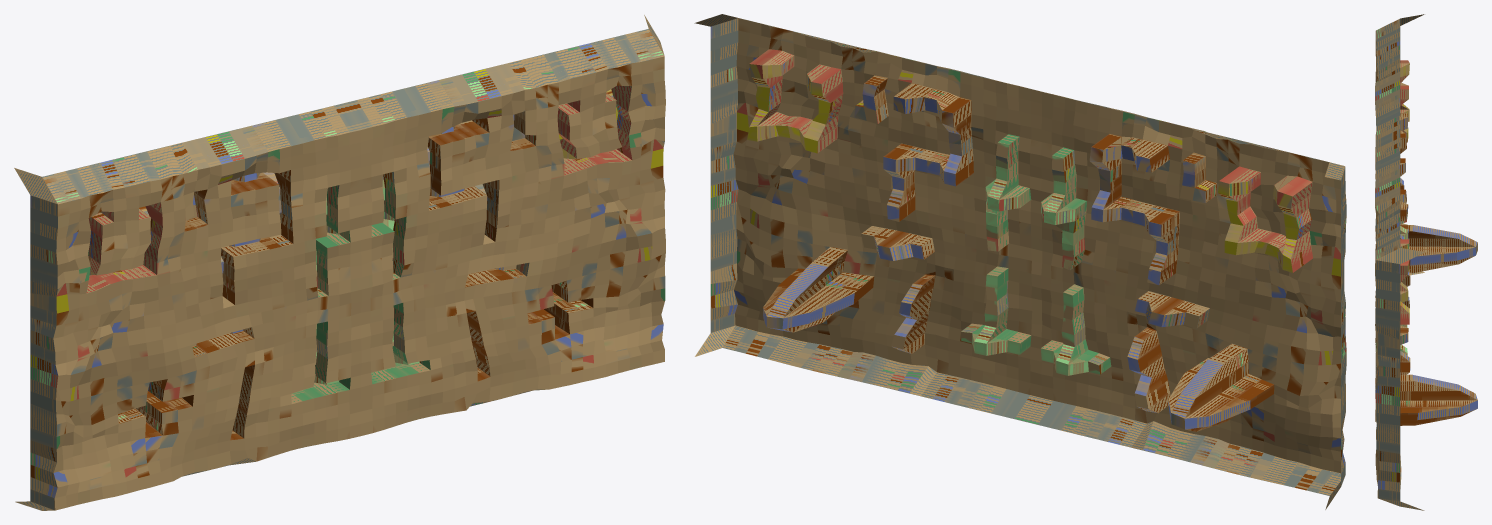
Rendered from Playground.fbx.
3 views of the same model, side by side, from view 1: azimuth 30°, elevation 25°; view 2: azimuth 150°, elevation 25°; view 3: azimuth 270°, elevation 25° (orthographic). The views are drawn at different scales.
Parts seen in each view (by area): view 1: Cube; view 2: Cube; view 3: Cube.
Part boxes in pixels (x1=…): Cube: x1=14, y1=15, x2=665, y2=510; Cube: x1=694, y1=14, x2=1346, y2=509; Cube: x1=1375, y1=14, x2=1477, y2=510.
Size of the model in its own units: 200 by 36.49 by 101.
Materials: 1 (1 with a texture image).
